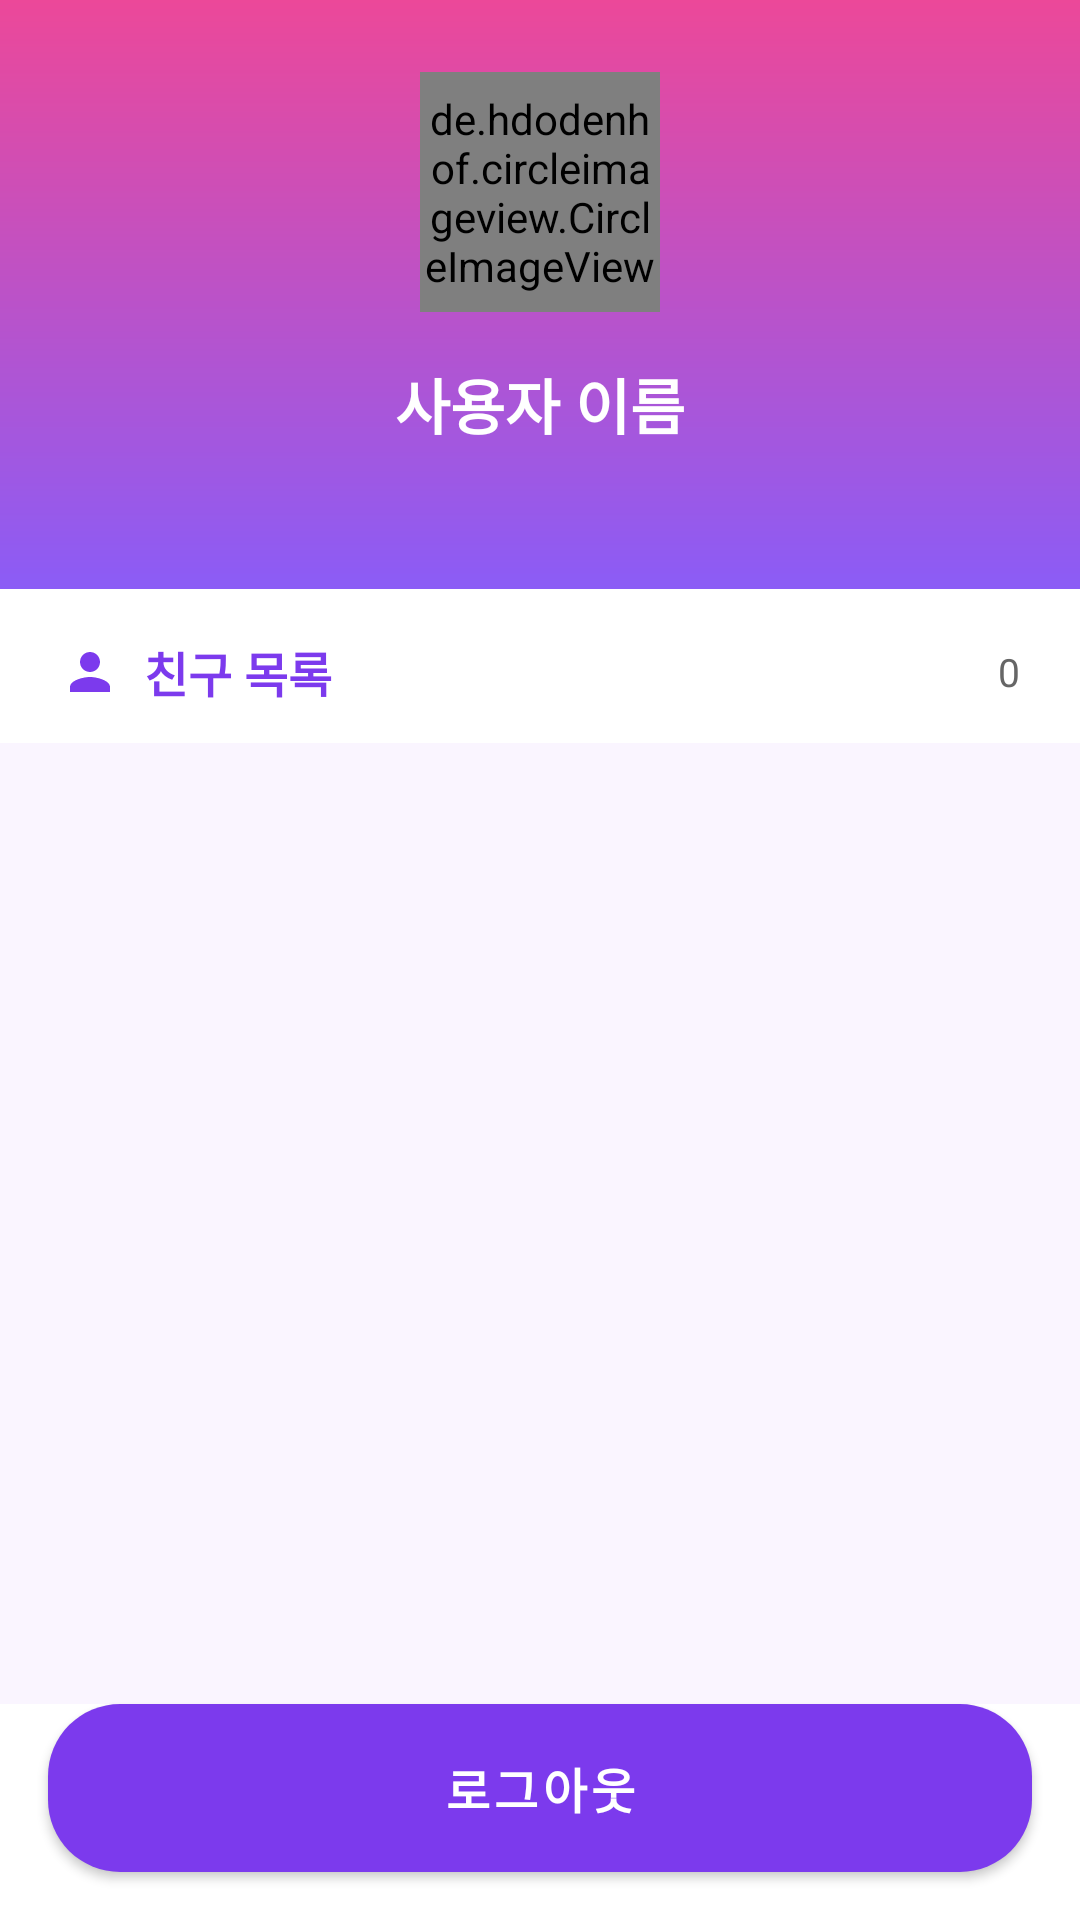

Where icons sit on this 1080 × 1920 app screen, as (x1, y1, x2, y2):
person: (70, 652, 110, 692)
